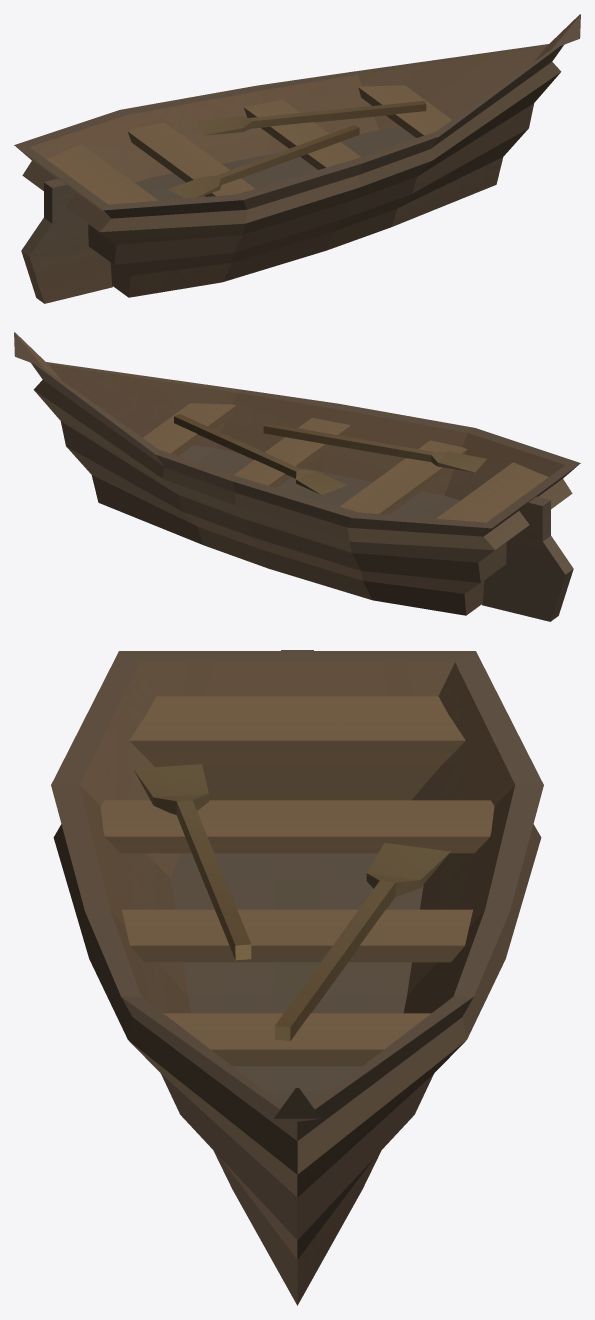
File: Boat_2.fbx
The picture shows the model from 3 angles, top to bottom: view 1: azimuth 30°, elevation 25°; view 2: azimuth 150°, elevation 25°; view 3: azimuth 270°, elevation 25°; orthographic projection. The views are drawn at different scales.
Parts seen in each view (by area): view 1: polySurface9687; view 2: polySurface9687; view 3: polySurface9687.
Part boxes in pixels (bbox=[...]): polySurface9687: bbox=[14, 14, 580, 303]; polySurface9687: bbox=[14, 332, 580, 621]; polySurface9687: bbox=[51, 650, 543, 1305].
Size of the model in its own units: 510 by 136 by 196.
